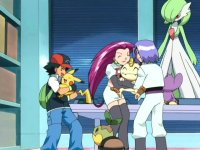gardevoir: (158, 1, 200, 100)
pikachu: (56, 69, 95, 104)
